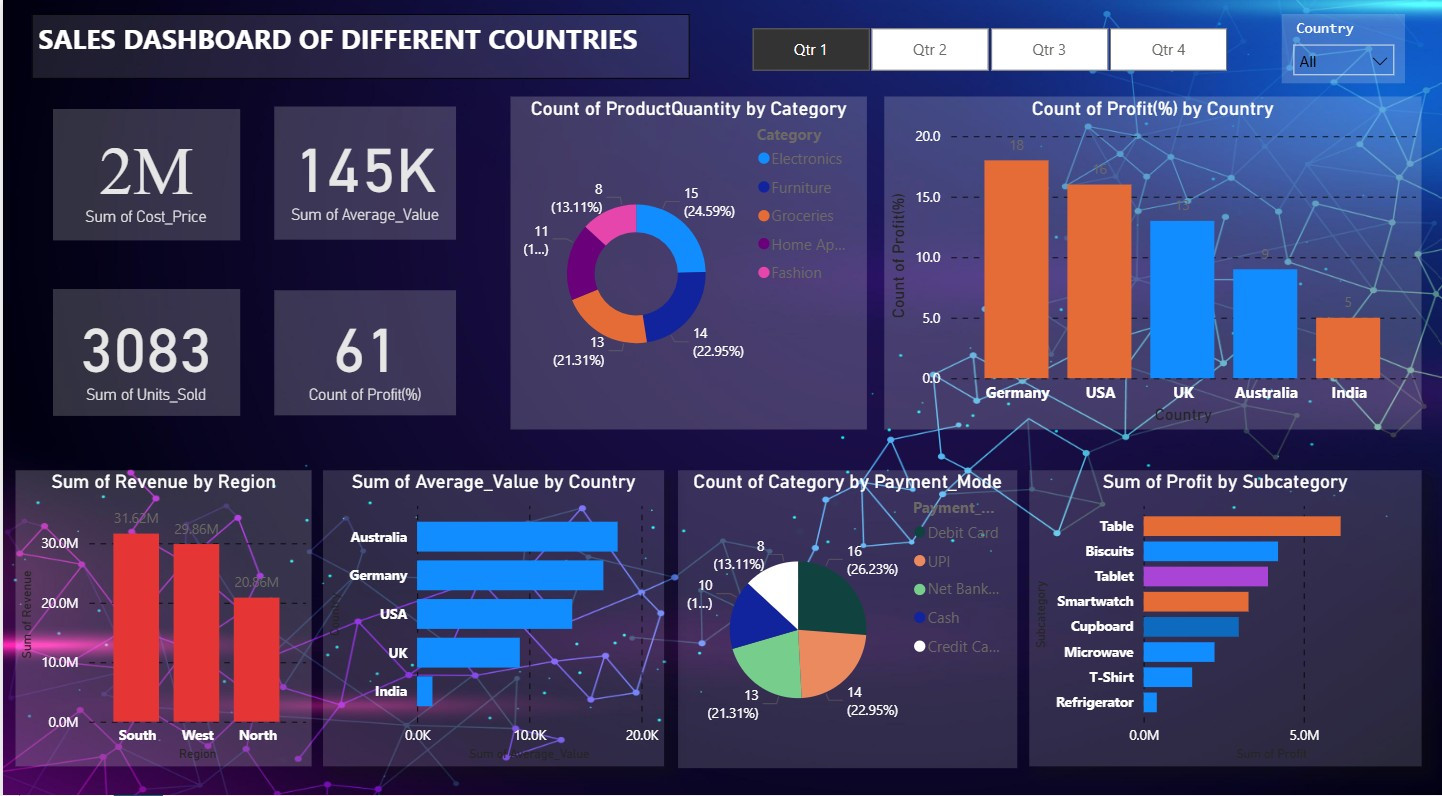

This screenshot's page, from the dashboard's own definition file:
{"tool":"powerbi","page":{"name":"Page 1","canvas":[1280,720],"ordinal":0},"visuals":[{"type":"textbox","box":[26.1,13.7,584.6,57.6],"z":0},{"type":"columnChart","fields":{"Y":["CountNonNull(Sheet1.Profit(%))"],"Category":["Sheet1.Country"]},"box":[783.5,86.4,477.5,296.4],"z":1000},{"type":"barChart","fields":{"Category":["Sheet1.Subcategory"],"Y":["Sum(Sheet1.Profit)"]},"box":[912.5,418.5,348.5,263.5],"z":2000},{"type":"donutChart","fields":{"Category":["Sheet1.Category"],"Y":["CountNonNull(Sheet1.ProductQuantity)"]},"box":[451.5,86.4,317,296.4],"z":3000},{"type":"pieChart","fields":{"Category":["Sheet1.Payment_Mode"],"Y":["CountNonNull(Sheet1.Category)"]},"box":[599.7,418.5,301.9,264.8],"z":4000},{"type":"card","fields":{"Values":["Sum(Sheet1.Cost_Price)"]},"box":[43.9,97.4,166,116.6],"z":5000},{"type":"card","fields":{"Values":["CountNonNull(Sheet1.Profit(%))"]},"box":[241.5,259.3,161.9,111.1],"z":6000},{"type":"card","fields":{"Values":["Sum(Sheet1.Units_Sold)"]},"box":[43.9,258,166,112.5],"z":7000},{"type":"card","fields":{"Values":["Sum(Sheet1.Average_Value)"]},"box":[241.5,96.1,161.9,118],"z":8000},{"type":"barChart","fields":{"Category":["Sheet1.Country"],"Y":["Sum(Sheet1.Average_Value)"]},"box":[284,418.5,303.3,263.5],"z":9000},{"type":"columnChart","fields":{"Y":["Sum(Sheet1.Revenue)"],"Category":["Sheet1.Region"]},"box":[11,418.5,263.5,263.5],"z":10000},{"type":"slicer","fields":{"Values":["Sheet1.Date.Variation.Date Hierarchy.Quarter"]},"box":[639.5,19.2,472,52.1],"z":11000},{"type":"slicer","fields":{"Values":["Sheet1.Country"]},"box":[1136.2,13.7,109.8,61.7],"z":12000}]}

Visuals, with their boxes in screenshot pixels (x1, y1, x2, y2), scaled from the page's 1280x720 canvas onto the 1442x796 screenshot:
textbox: (left=29, top=15, right=688, bottom=79)
columnChart - CountNonNull(Sheet1.Profit(%)) x Sheet1.Country: (left=883, top=96, right=1421, bottom=423)
barChart - Sheet1.Subcategory x Sum(Sheet1.Profit): (left=1028, top=463, right=1421, bottom=754)
donutChart - Sheet1.Category x CountNonNull(Sheet1.ProductQuantity): (left=509, top=96, right=866, bottom=423)
pieChart - Sheet1.Payment_Mode x CountNonNull(Sheet1.Category): (left=676, top=463, right=1016, bottom=755)
card - Sum(Sheet1.Cost_Price): (left=49, top=108, right=236, bottom=237)
card - CountNonNull(Sheet1.Profit(%)): (left=272, top=287, right=454, bottom=409)
card - Sum(Sheet1.Units_Sold): (left=49, top=285, right=236, bottom=410)
card - Sum(Sheet1.Average_Value): (left=272, top=106, right=454, bottom=237)
barChart - Sheet1.Country x Sum(Sheet1.Average_Value): (left=320, top=463, right=662, bottom=754)
columnChart - Sum(Sheet1.Revenue) x Sheet1.Region: (left=12, top=463, right=309, bottom=754)
slicer - Sheet1.Date.Variation.Date Hierarchy.Quarter: (left=720, top=21, right=1252, bottom=79)
slicer - Sheet1.Country: (left=1280, top=15, right=1404, bottom=83)
